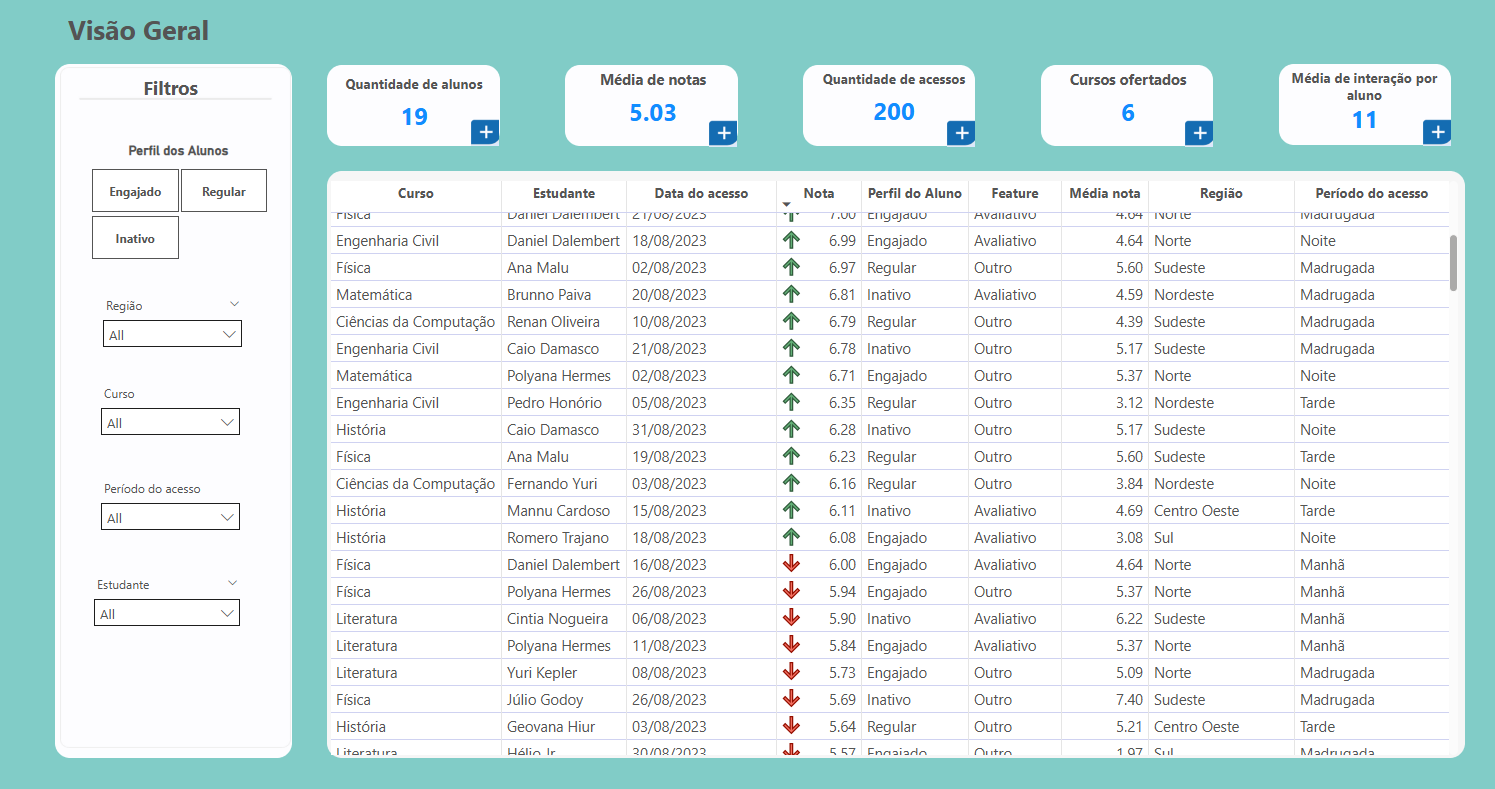

Layout of this report page (visuals, bound fields, positions):
{"tool":"powerbi","page":{"name":"Geral","canvas":[1500,800],"ordinal":0},"visuals":[{"type":"image","title":"FF","box":[56,64,241,691],"z":0,"group":"g1"},{"type":"tableEx","fields":{"Values":["powerbi_base_lms_2025-07-26.Curso","powerbi_base_lms_2025-07-26.Estudante","powerbi_base_lms_2025-07-26.Data","powerbi_base_lms_2025-07-26.nota_num","powerbi_base_lms_2025-07-26.perfil_aluno","powerbi_base_lms_2025-07-26.tipo_feature","powerbi_base_lms_2025-07-26.media_nota_estudante","powerbi_base_lms_2025-07-26.Região","powerbi_base_lms_2025-07-26.periodo"]},"box":[326,178,1138,584],"z":0},{"type":"card","title":"Quantidade de acessos","fields":{"Values":["powerbi_base_lms_2025-07-26.ID"]},"box":[811,72,168,67],"z":1000},{"type":"card","title":"Quantidade de alunos","fields":{"Values":["Medidas.Alunos_unicos"]},"box":[326,77,178,67],"z":2000},{"type":"card","title":"Média de notas","fields":{"Values":["Medidas.Media_nota"]},"box":[571,72,156,74],"z":3000},{"type":"group","id":"g1","title":"Group 1","box":[56,64,241,691],"z":4000},{"type":"card","title":"Cursos ofertados","fields":{"Values":["powerbi_base_lms_2025-07-26.Curso"]},"box":[1036,71,186,67],"z":5000},{"type":"slicer","fields":{"Values":["powerbi_base_lms_2025-07-26.Região"]},"box":[94,294,159,69],"z":5000,"group":"g1"},{"type":"textbox","box":[64,8,981,73],"z":6000},{"type":"slicer","fields":{"Values":["powerbi_base_lms_2025-07-26.Curso"]},"box":[92,382,159,69],"z":6000,"group":"g1"},{"type":"card","title":"Média de interação por aluno","fields":{"Values":["powerbi_base_lms_2025-07-26.interacoes_estudante"]},"box":[1277,71,177,67],"z":7000},{"type":"slicer","fields":{"Values":["powerbi_base_lms_2025-07-26.periodo"]},"box":[91.8,477,159.2,69],"z":7000,"group":"g1"},{"type":"slicer","title":"Perfil dos Alunos","fields":{"Values":["powerbi_base_lms_2025-07-26.perfil_aluno"]},"box":[67,145,225,123],"z":8000,"group":"g1"},{"type":"slicer","fields":{"Values":["powerbi_base_lms_2025-07-26.Estudante"]},"box":[85,573,166,69],"z":8000},{"type":"textbox","box":[91.6,72,164.5,53],"z":12000,"group":"g1"}]}

Visuals, with their boxes in screenshot pixels (x1, y1, x2, y2), scaled from the page's 1500x800 canvas onto the 1495x789 screenshot:
"FF" image: {"x1": 56, "y1": 63, "x2": 296, "y2": 745}
tableEx - powerbi_base_lms_2025-07-26.Curso x powerbi_base_lms_2025-07-26.Estudante: {"x1": 325, "y1": 176, "x2": 1459, "y2": 752}
"Quantidade de acessos" card: {"x1": 808, "y1": 71, "x2": 976, "y2": 137}
"Quantidade de alunos" card: {"x1": 325, "y1": 76, "x2": 502, "y2": 142}
"Média de notas" card: {"x1": 569, "y1": 71, "x2": 725, "y2": 144}
"Group 1" group: {"x1": 56, "y1": 63, "x2": 296, "y2": 745}
"Cursos ofertados" card: {"x1": 1033, "y1": 70, "x2": 1218, "y2": 136}
slicer - powerbi_base_lms_2025-07-26.Região: {"x1": 94, "y1": 290, "x2": 252, "y2": 358}
textbox: {"x1": 64, "y1": 8, "x2": 1042, "y2": 80}
slicer - powerbi_base_lms_2025-07-26.Curso: {"x1": 92, "y1": 377, "x2": 250, "y2": 445}
"Média de interação por aluno" card: {"x1": 1273, "y1": 70, "x2": 1449, "y2": 136}
slicer - powerbi_base_lms_2025-07-26.periodo: {"x1": 91, "y1": 470, "x2": 250, "y2": 538}
"Perfil dos Alunos" slicer: {"x1": 67, "y1": 143, "x2": 291, "y2": 264}
slicer - powerbi_base_lms_2025-07-26.Estudante: {"x1": 85, "y1": 565, "x2": 250, "y2": 633}
textbox: {"x1": 91, "y1": 71, "x2": 255, "y2": 123}
